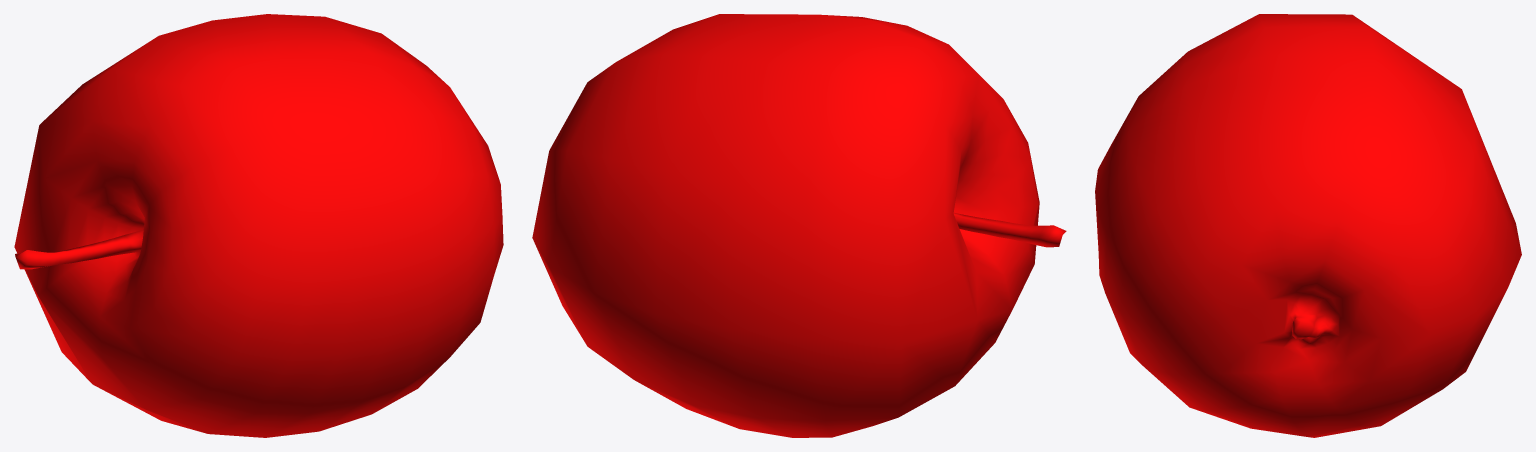
Rendered from apple1.FBX.
3 views of the same model, side by side, from view 1: azimuth 30°, elevation 25°; view 2: azimuth 150°, elevation 25°; view 3: azimuth 270°, elevation 25° (orthographic). The views are drawn at different scales.
Parts seen in each view (by area): view 1: apple1; view 2: apple1; view 3: apple1.
Part boxes in pixels (x1,y1,x2,y2): apple1: (14, 14, 503, 437); apple1: (532, 14, 1066, 437); apple1: (1095, 14, 1521, 437).
Bounding box in the file's own units: 67.82 × 53.7 × 58.81.
